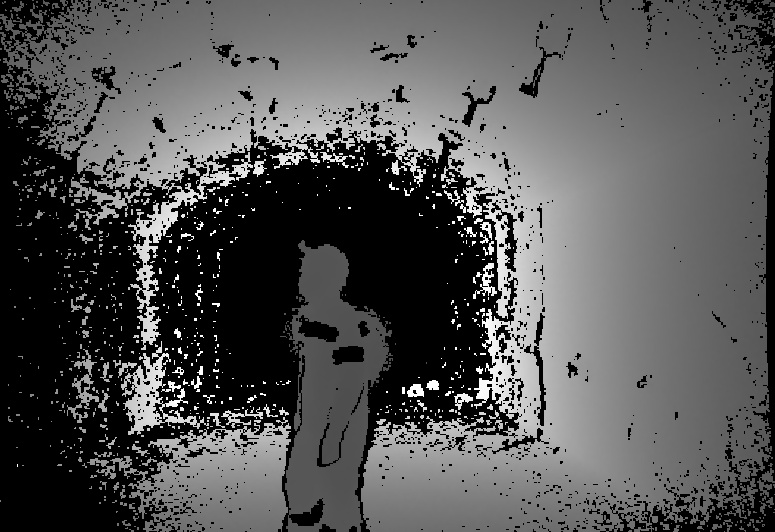person: (285, 239, 389, 532)
